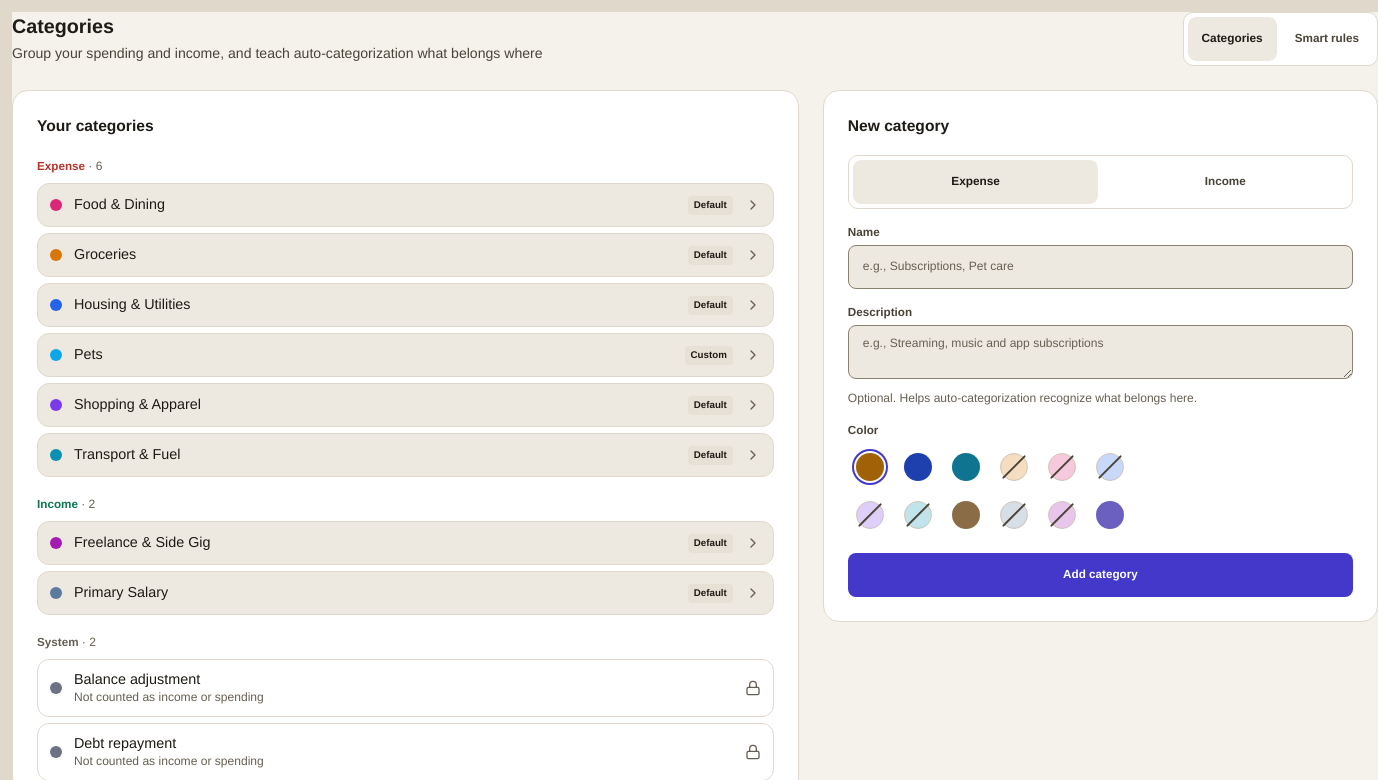
it: the form, from lg › keeps a custom category's pre-Phase-62 colour when Save changes only its name
Click the button with id "category-edit-pets".
click(709, 355)  # box [37,333,774,377]
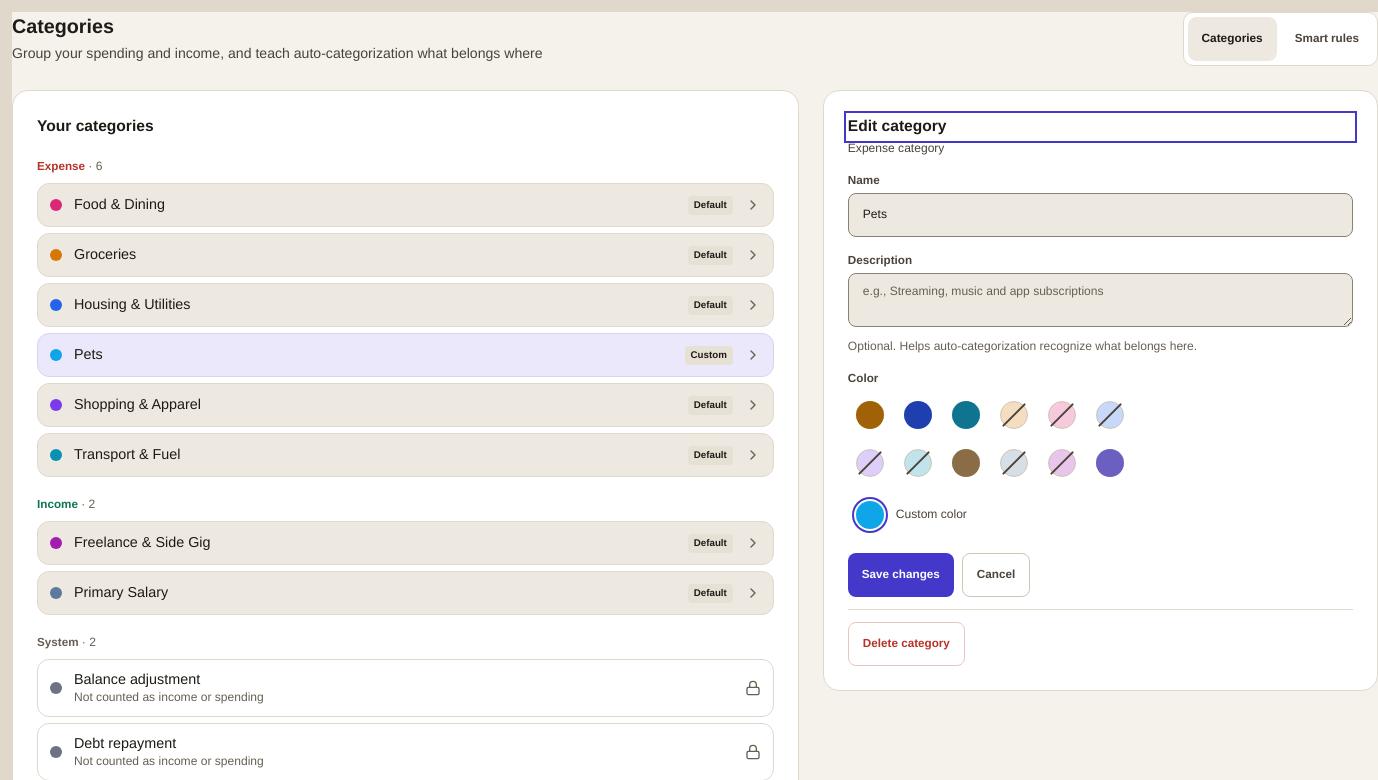
Replace the text in the field with id "category-edit-name" with "Animals" at x=1100, y=215, box [848,193,1353,237]
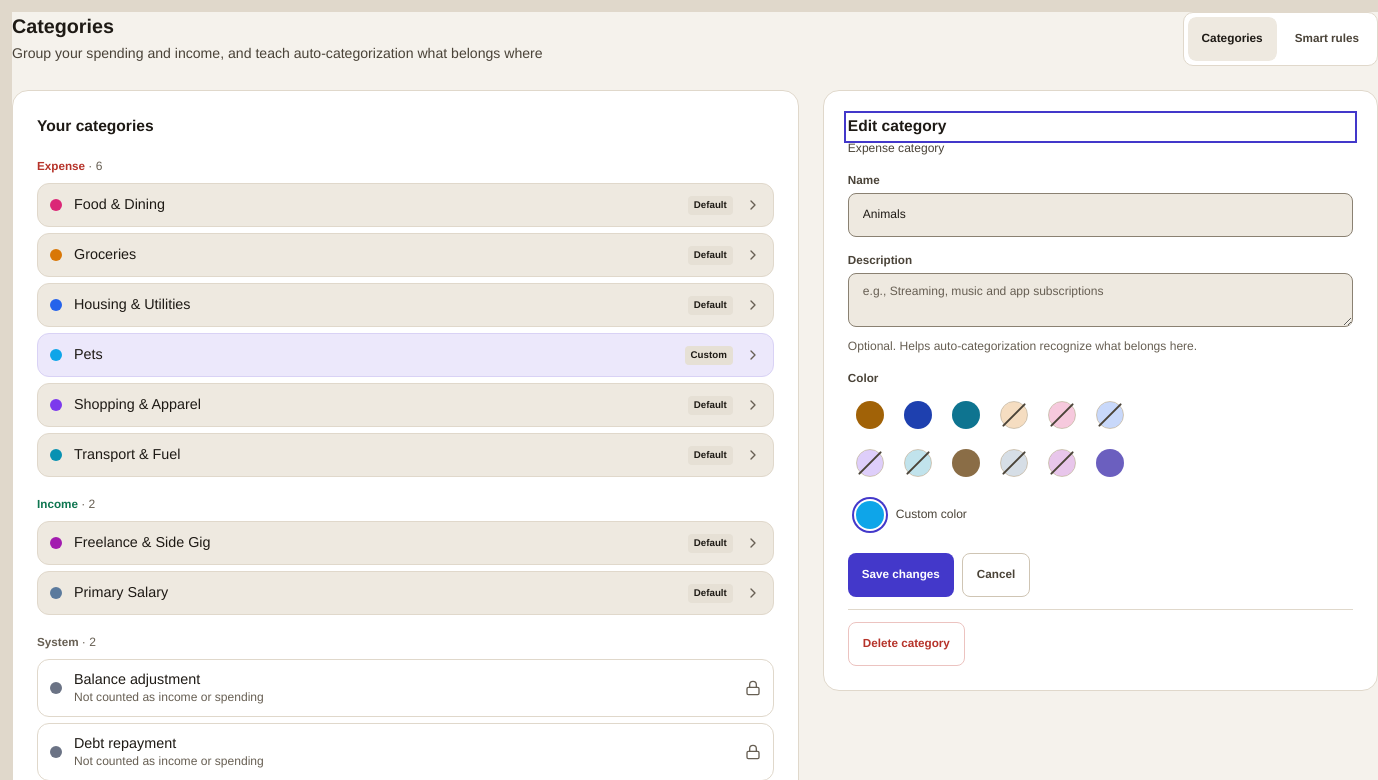
Click the button with id "category-edit-save-btn".
click(901, 575)  # box [848,553,954,597]
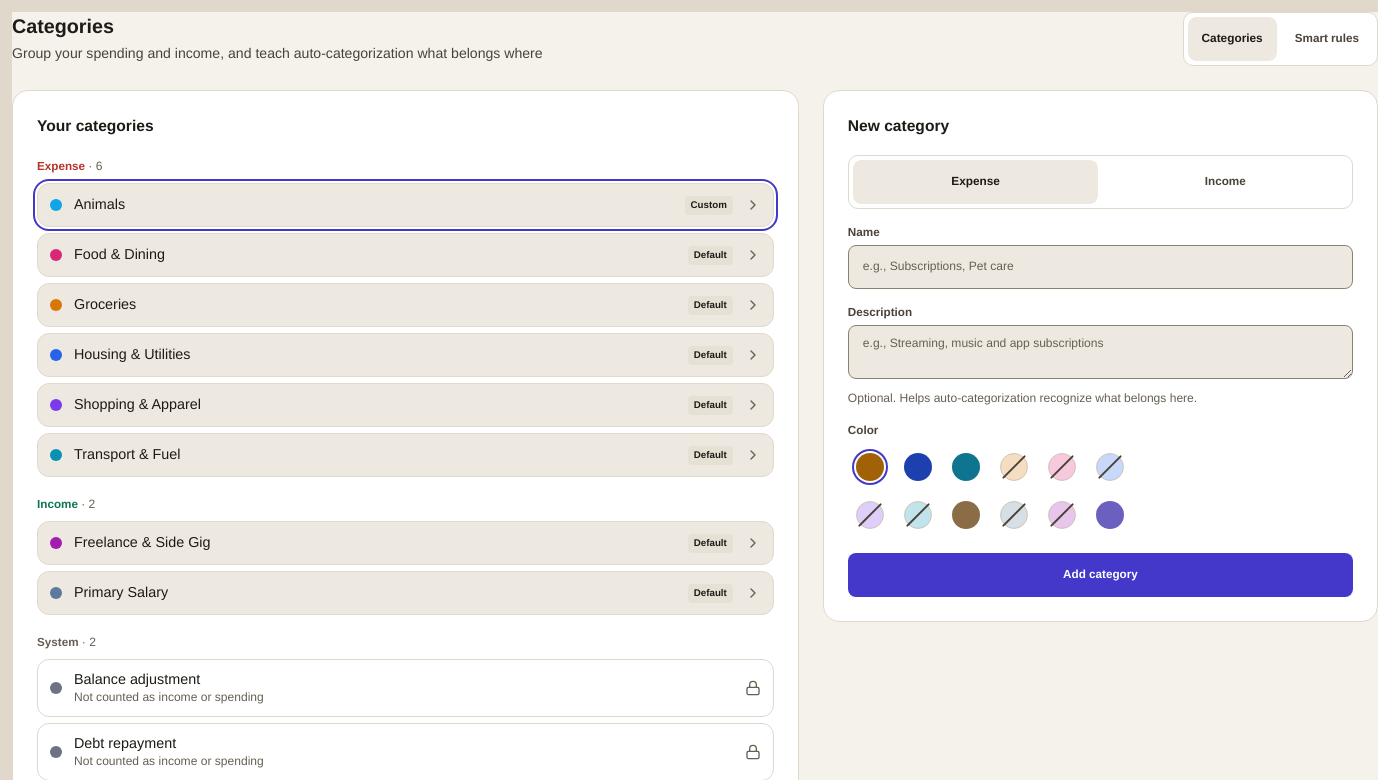
Expected: the button with id "category-edit-pets" shows "Animals", [37,183,774,227]
